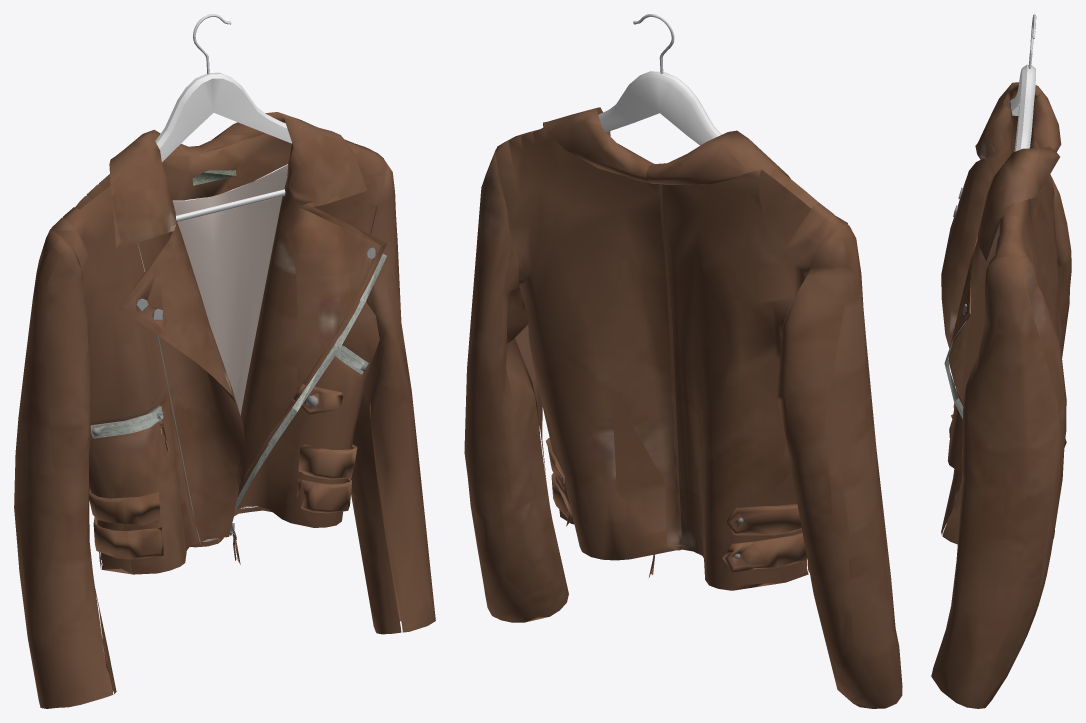
File: jak.glb
3 renders of one model, left to right at view 1: azimuth 30°, elevation 25°; view 2: azimuth 150°, elevation 25°; view 3: azimuth 270°, elevation 25°, orthographic. The views are drawn at different scales.
Parts seen in each view (by area): view 1: BP_jak; view 2: BP_jak; view 3: BP_jak.
Part boxes in pixels (x1,y1,x2,y2): BP_jak: [14, 14, 435, 708]; BP_jak: [464, 14, 902, 708]; BP_jak: [931, 14, 1071, 708].
Size of the model in its own units: 0.5044 by 0.7813 by 0.1638.
8 materials, 4 textured.
